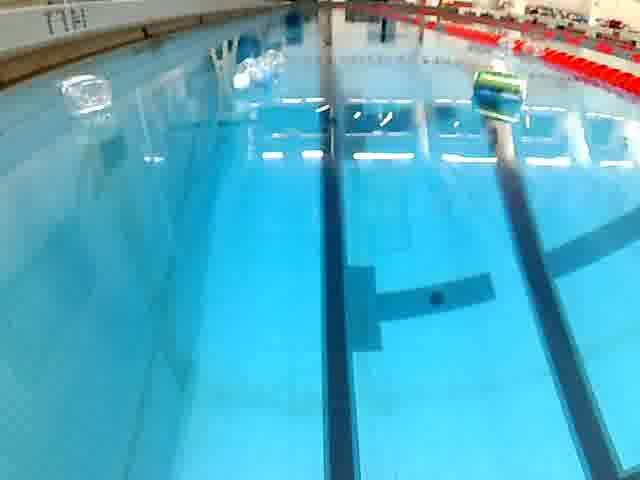Bottle: (52, 72, 121, 122), (228, 48, 290, 94)
Can: (466, 66, 533, 106)
